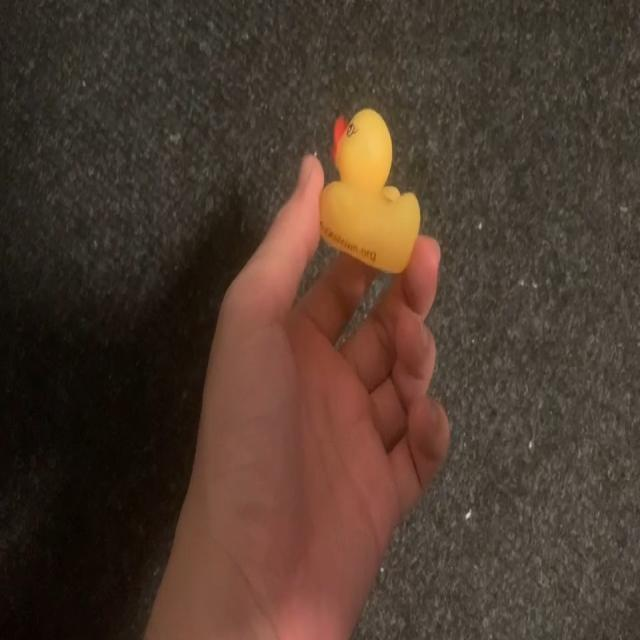rubber-duck: (319, 108, 419, 271)
